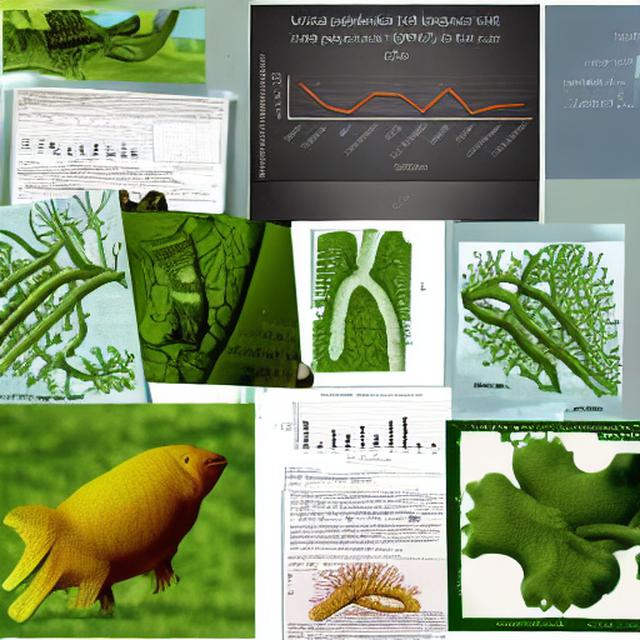Graph: (251, 10, 540, 182), (278, 390, 442, 463), (140, 121, 216, 169)
